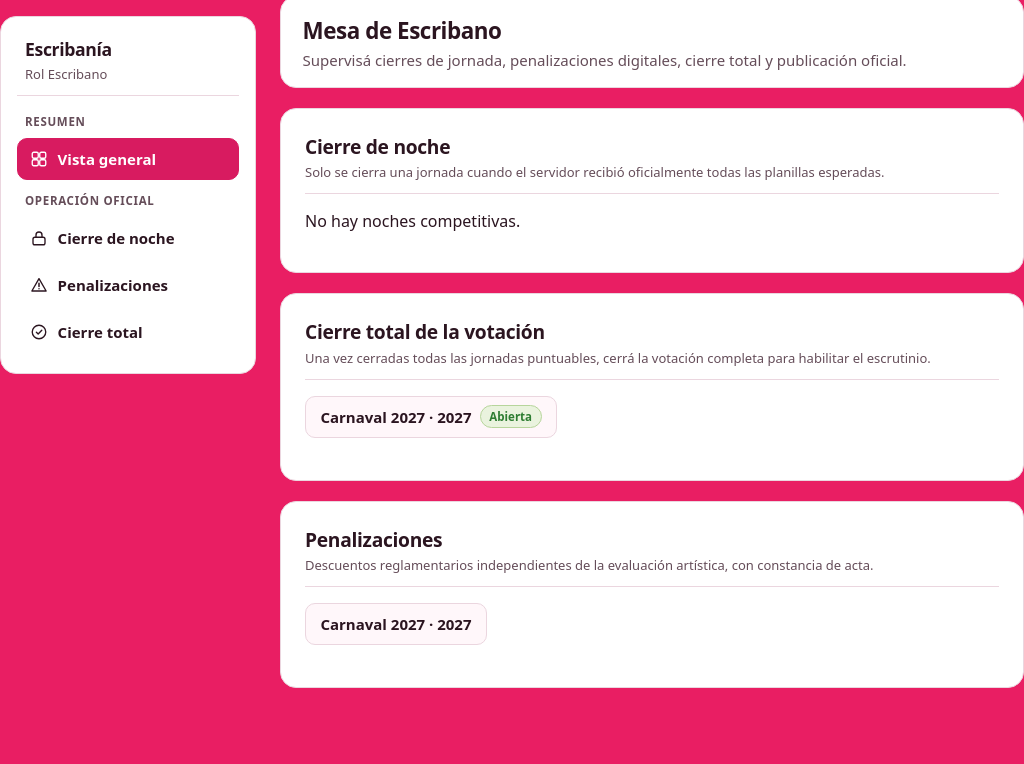
Test case: failed penalty confirmation renders a single alert inside the modal and clears on cancel
Step 1. Click the button "Carnaval 2027 · 2027" → (396, 624), box [305,603,487,645]
(page scrolled)
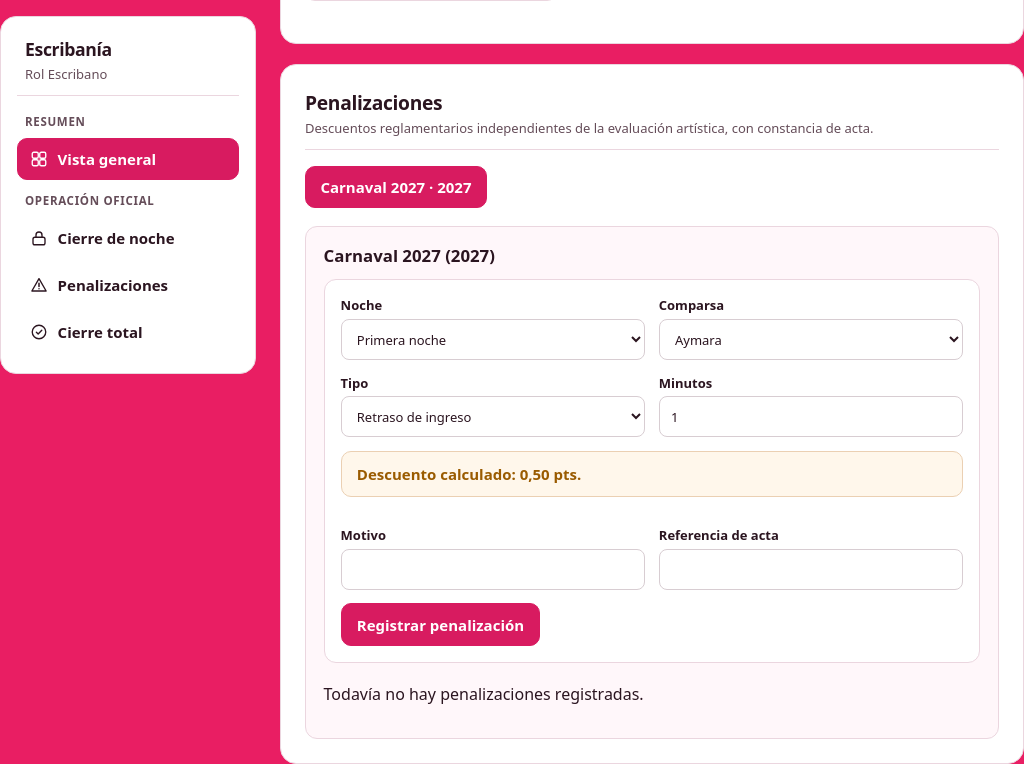
Expected: the text "Todavía no hay penalizaciones registradas." is shown, [324,683,644,705]
Step 2. Type "Demora" into the field labelled "Motivo" → (493, 570), box [341,549,645,590]
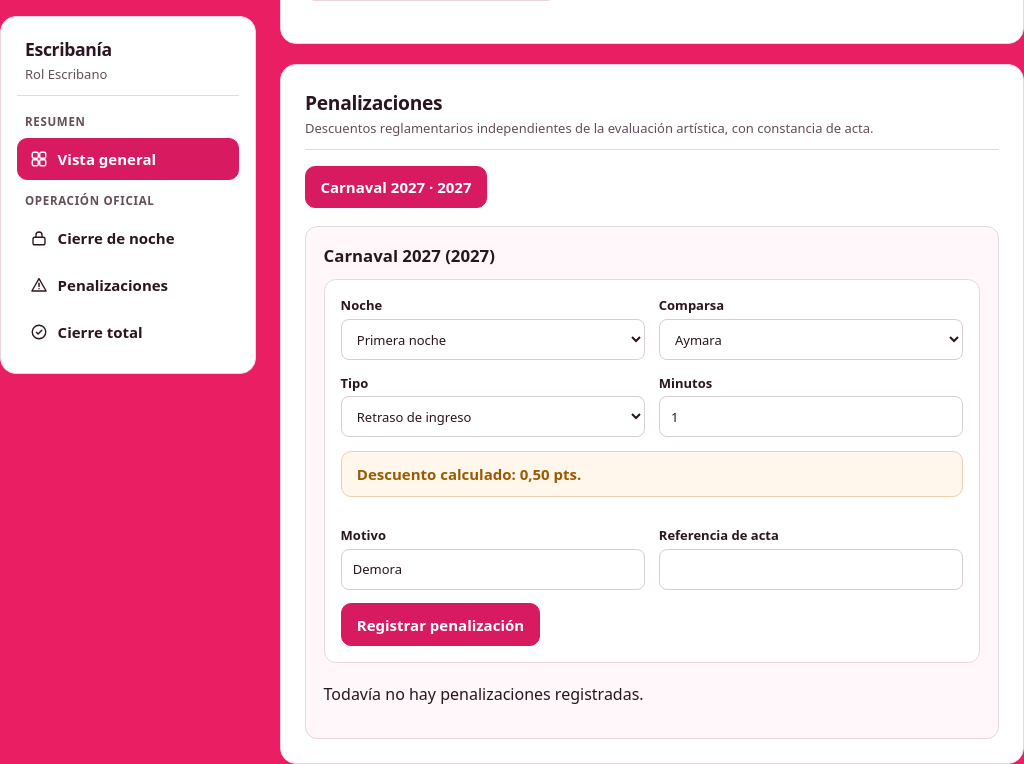
Step 3. Type "Acta 99" into the field labelled "Referencia de acta" → (811, 570), box [659,549,963,590]
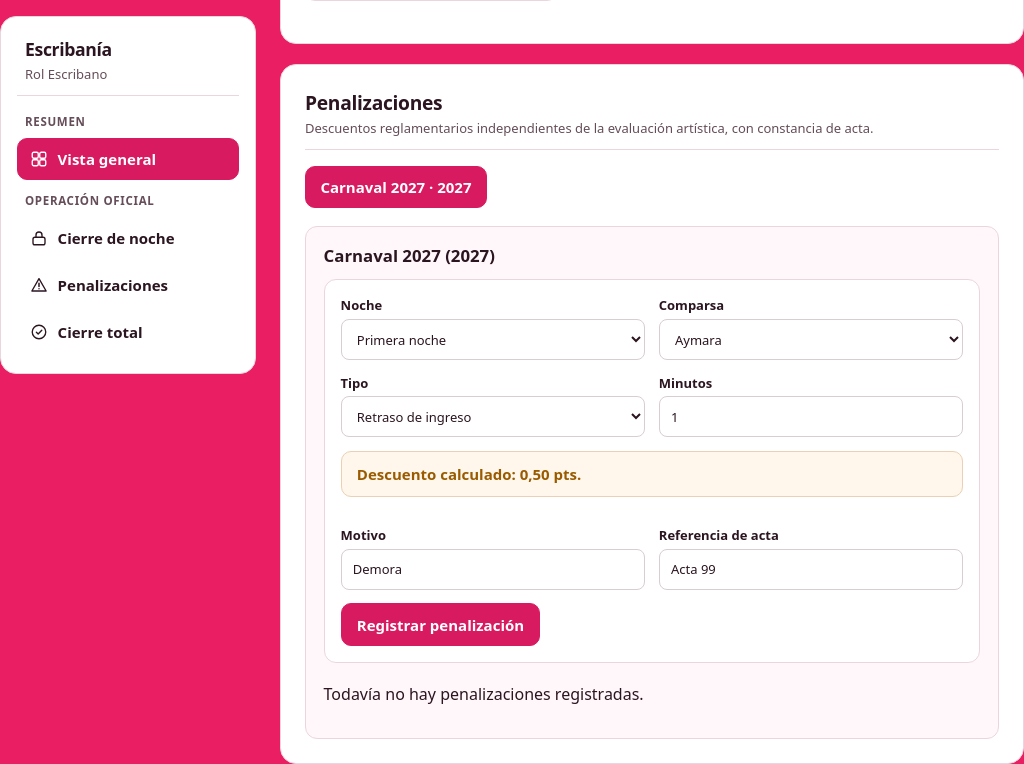
Step 4. Click the button "Registrar penalización" → (440, 625), box [341,604,540,646]
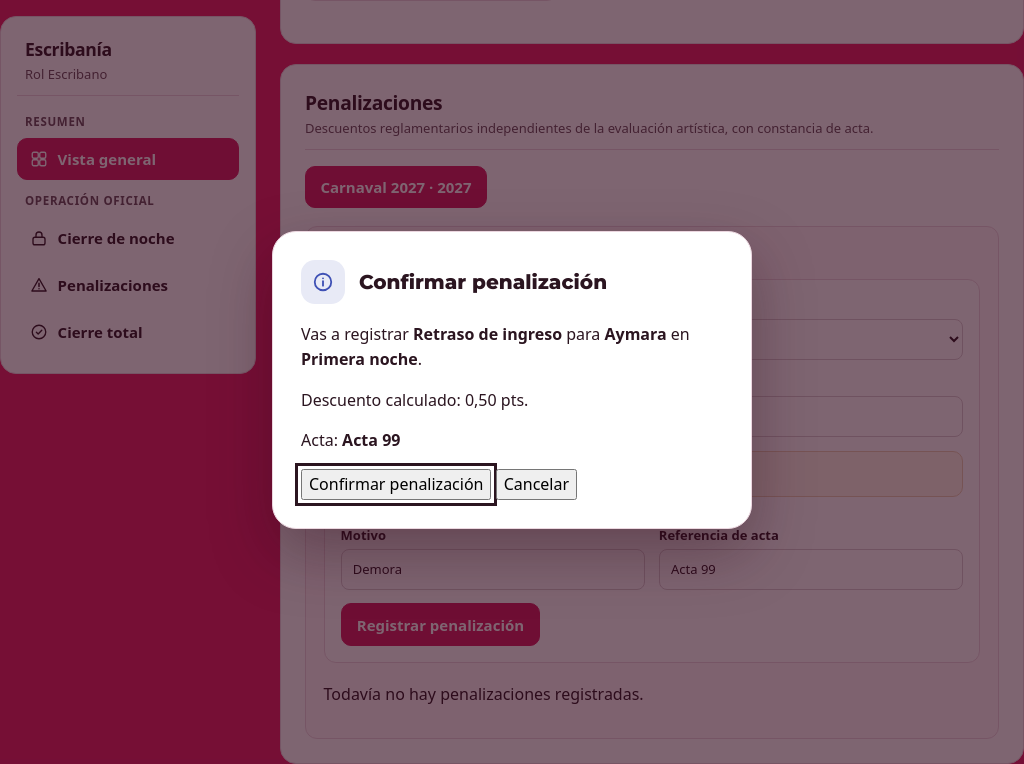
Step 5. Click the button "Confirmar penalización" → (396, 485), box [301,469,492,500]
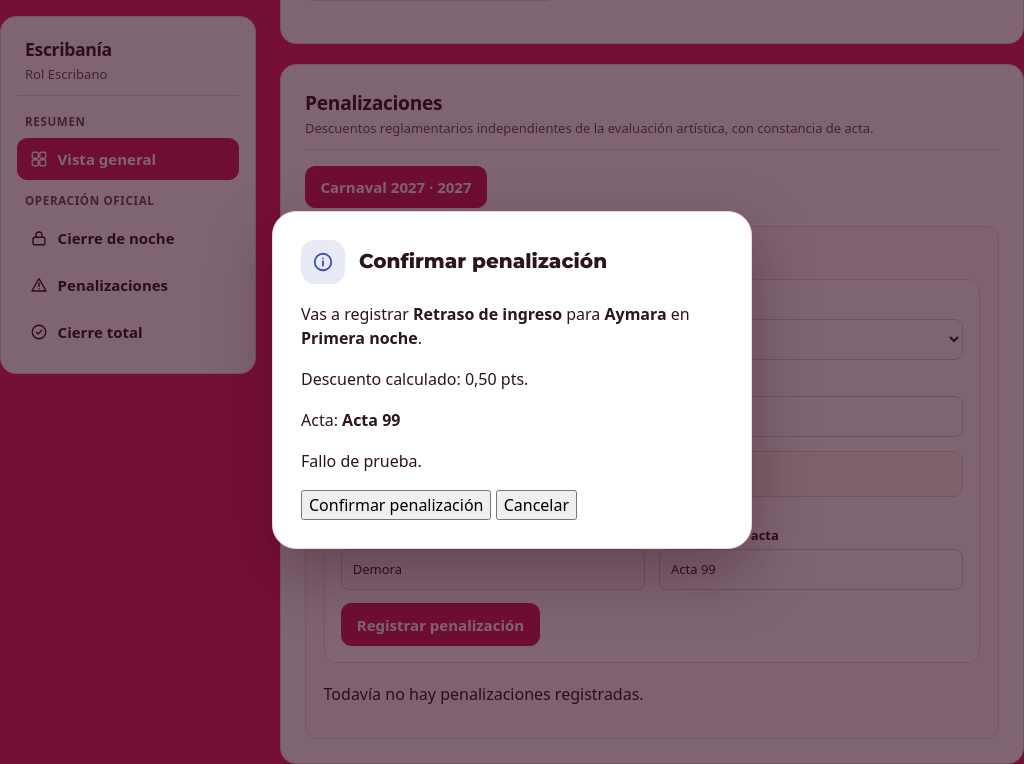
Expected: the message reads "Fallo de prueba.", [301,450,422,472]
Expected: the number of messages is 1, [301,450,422,472]
Step 6. Click the button "Cancelar" → (536, 505), box [496,490,577,520]
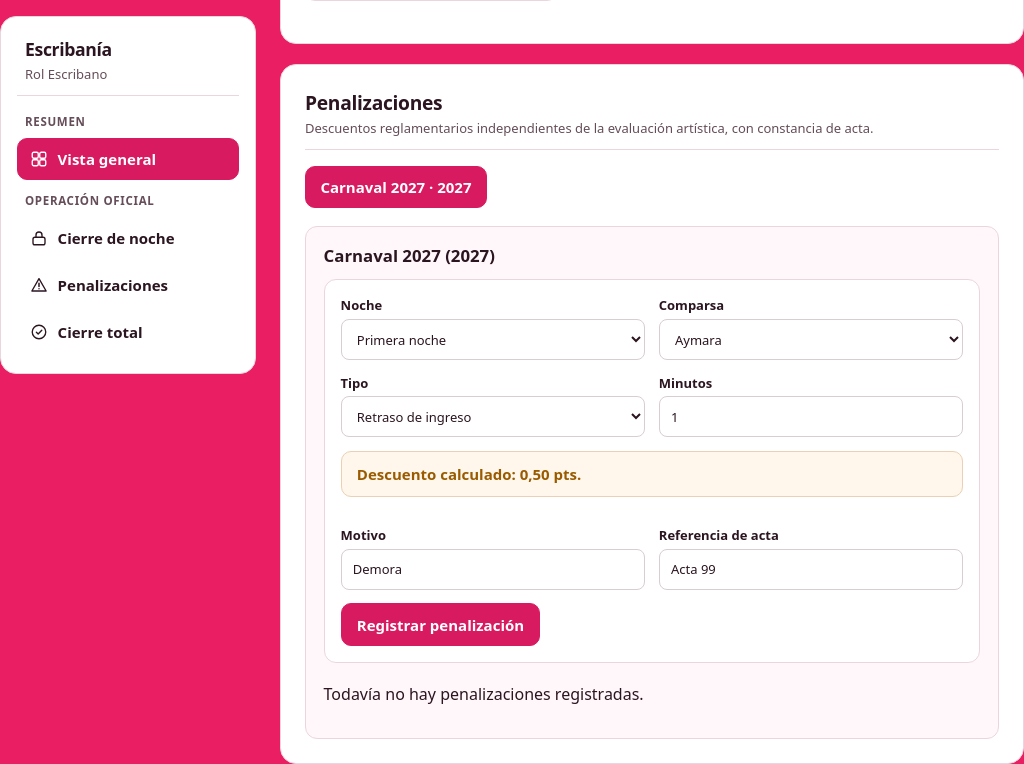
Expected: the dialog is gone
Expected: the message "Fallo de prueba." is gone
